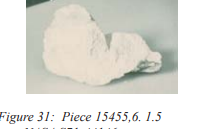Breccia: (42, 6, 166, 90)
